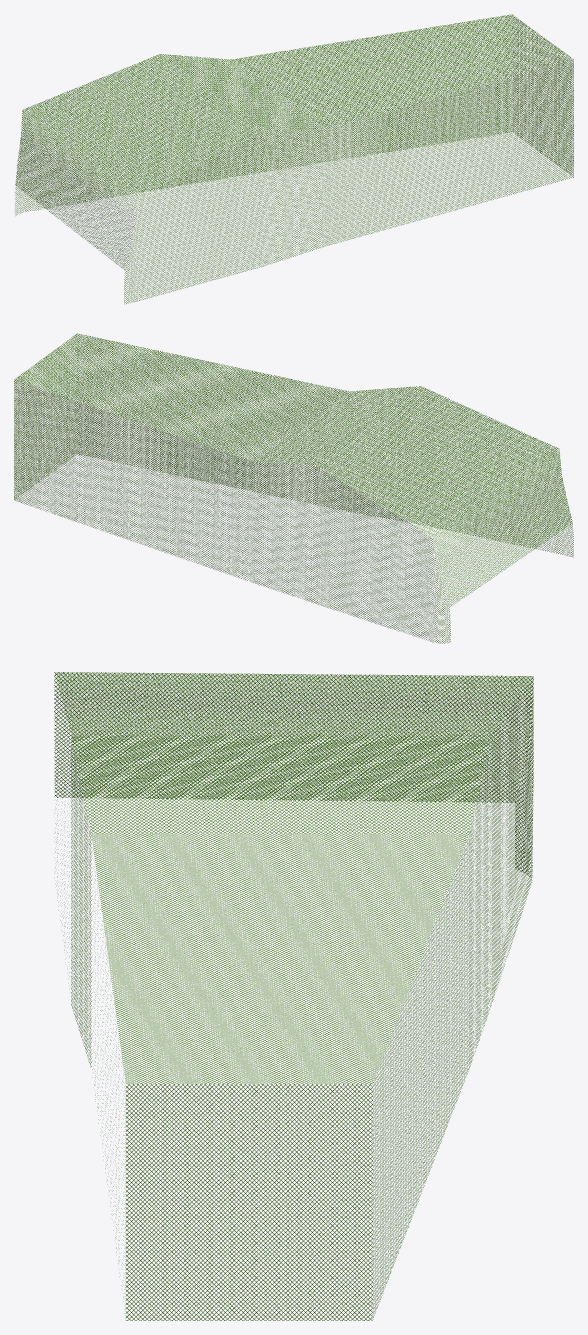
File: golfnet.fbx
3 renders of one model, top to bottom at view 1: azimuth 30°, elevation 25°; view 2: azimuth 150°, elevation 25°; view 3: azimuth 270°, elevation 25°, orthographic. The views are drawn at different scales.
Visible parts, largest first — view 1: golf_netA; view 2: golf_netA; view 3: golf_netA.
Part boxes in pixels (box(x1,y1,x2,y2)): golf_netA: box(15, 14, 573, 304); golf_netA: box(14, 333, 573, 643); golf_netA: box(54, 672, 533, 1320).
Size of the model in its own units: 3.11 by 0.8609 by 1.38.
1 material, 1 textured.
